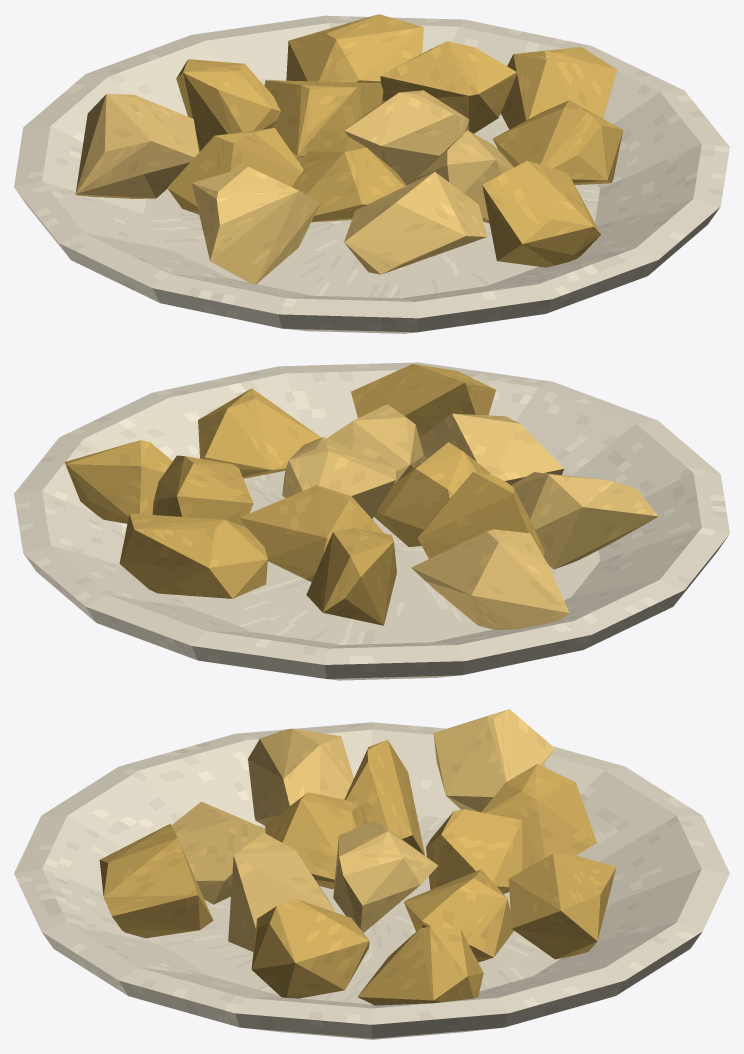
Rendered from scrambled_eggs.glb.
3 renders of one model, top to bottom at view 1: azimuth 30°, elevation 25°; view 2: azimuth 150°, elevation 25°; view 3: azimuth 270°, elevation 25°, orthographic.
Visible parts, largest first — view 1: block_scrambled egg curd (×14), block_small dish; view 2: block_scrambled egg curd (×14), block_small dish; view 3: block_scrambled egg curd (×14), block_small dish.
Part boxes in pixels (bbox=[...]): block_scrambled egg curd (×14): bbox=[75, 14, 623, 284]; block_small dish: bbox=[14, 15, 729, 333]; block_scrambled egg curd (×14): bbox=[64, 364, 658, 629]; block_small dish: bbox=[14, 362, 729, 680]; block_scrambled egg curd (×14): bbox=[99, 709, 616, 1005]; block_small dish: bbox=[14, 722, 729, 1039].
Bounding box in the file's own units: 0.095 × 0.0193 × 0.095.
1 material, 1 textured.
